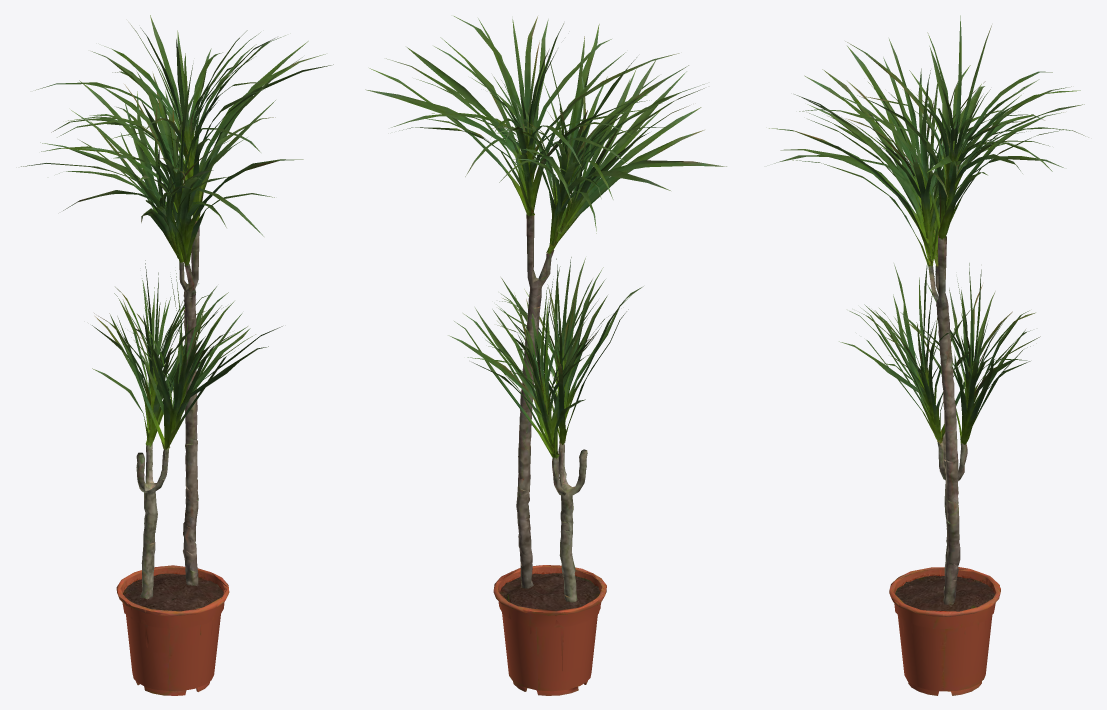
Rendered from 40408455-mini.glb.
3 renders of one model, left to right at view 1: azimuth 30°, elevation 25°; view 2: azimuth 150°, elevation 25°; view 3: azimuth 270°, elevation 25°, orthographic.
Visible parts, largest first — view 1: Mesh_0; view 2: Mesh_0; view 3: Mesh_0.
Part boxes in pixels (<box>): Mesh_0: <box>21,15,333,695</box>; Mesh_0: <box>365,16,726,695</box>; Mesh_0: <box>769,15,1088,695</box>.
Size of the model in its own units: 0.6201 by 1.27 by 0.5922.
Materials: 1 (1 with a texture image).
